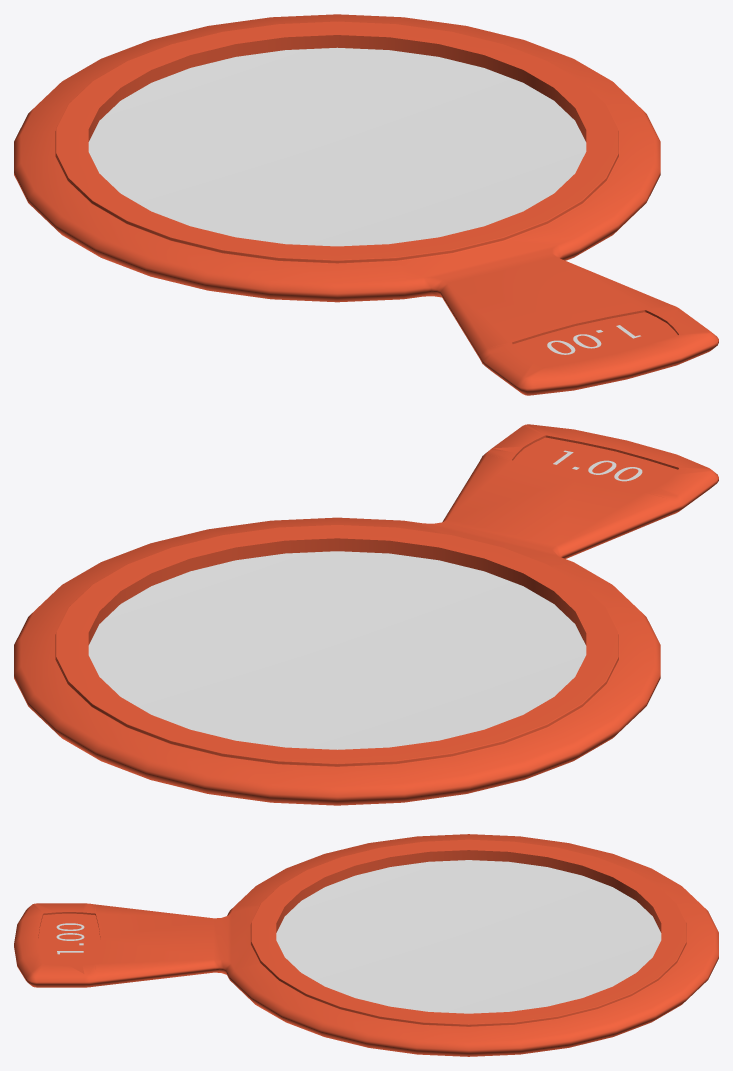
The model's file is ChaiPian_Hong_100.fbx.
The picture shows the model from 3 angles, top to bottom: view 1: azimuth 30°, elevation 25°; view 2: azimuth 150°, elevation 25°; view 3: azimuth 270°, elevation 25°; orthographic projection. The views are drawn at different scales.
Parts seen in each view (by area): view 1: ChaiPian_Hong_100_Mesh, ChaiPian_Hong_100_Trans_Mesh; view 2: ChaiPian_Hong_100_Mesh, ChaiPian_Hong_100_Trans_Mesh; view 3: ChaiPian_Hong_100_Mesh, ChaiPian_Hong_100_Trans_Mesh.
Part boxes in pixels (x1,y1,x2,y2): ChaiPian_Hong_100_Mesh: (14,14,718,395); ChaiPian_Hong_100_Trans_Mesh: (88,47,586,246); ChaiPian_Hong_100_Mesh: (14,424,718,805); ChaiPian_Hong_100_Trans_Mesh: (88,551,586,749); ChaiPian_Hong_100_Mesh: (14,834,718,1056); ChaiPian_Hong_100_Trans_Mesh: (276,860,661,1013).
Size of the model in its own units: 3.2 by 0.1908 by 4.48.
